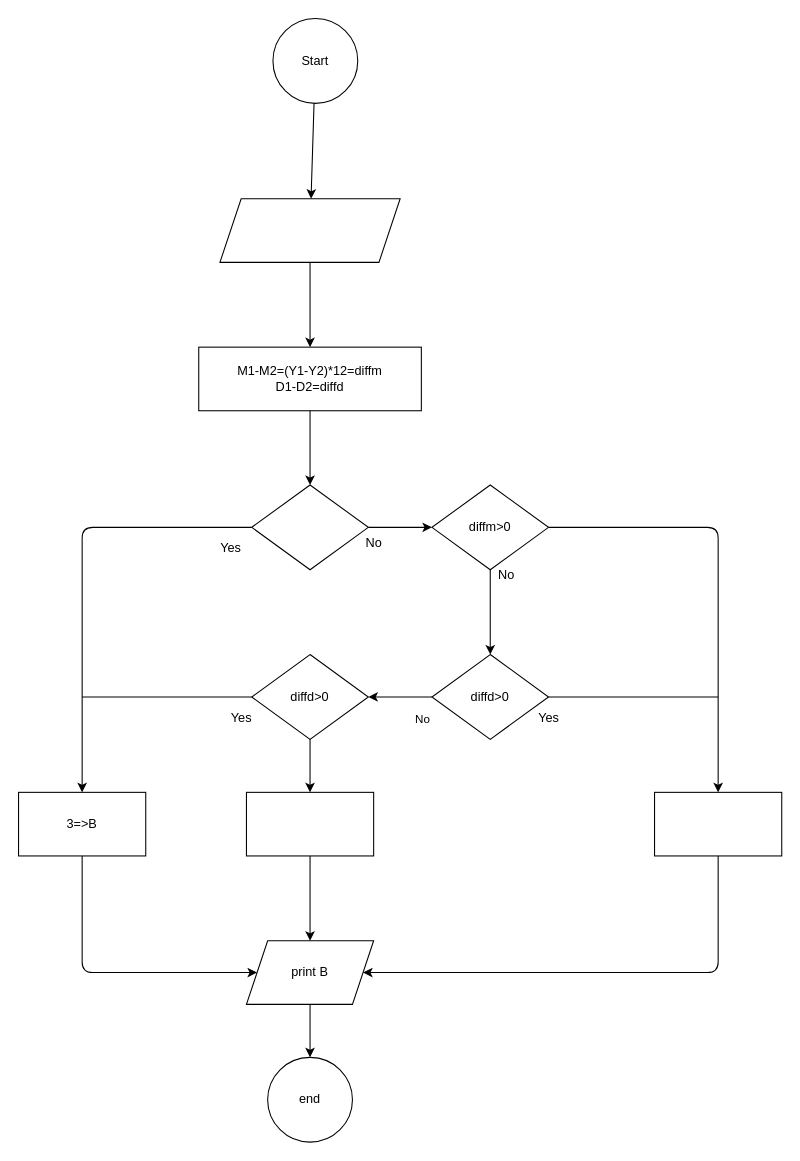
The diagram is 800 pixels wide and 1161 high, and some of its shapes have lost their labels. The centre of each missing label's shape, as x and y in pixels:
1=>B: the point at 717,823
2=>B: the point at 309,823
diffm<0: the point at 309,527
Input D1,M1,Y1,D2,M2,Y2: the point at 309,230
